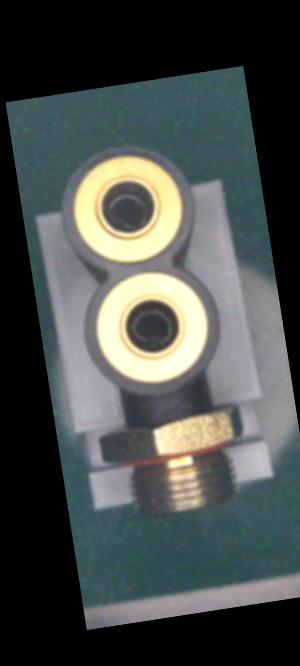craze: (157, 397, 192, 415)
off-centered: (101, 182, 151, 238), (123, 304, 178, 353)
